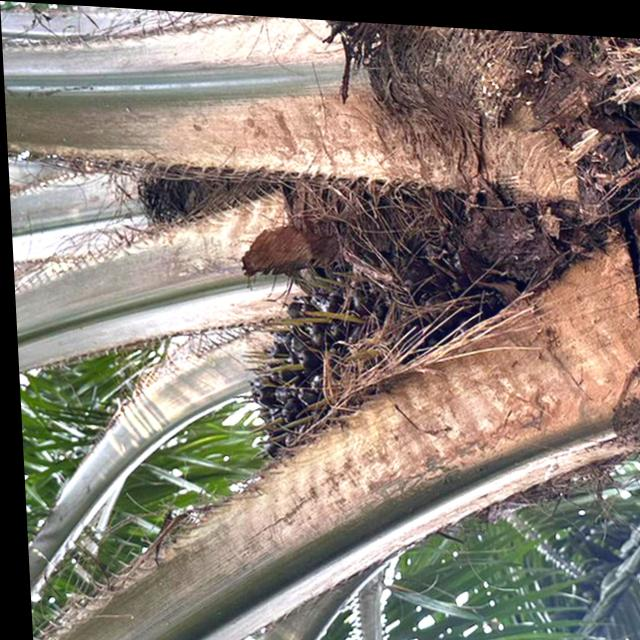ripe: (209, 276, 474, 475)
